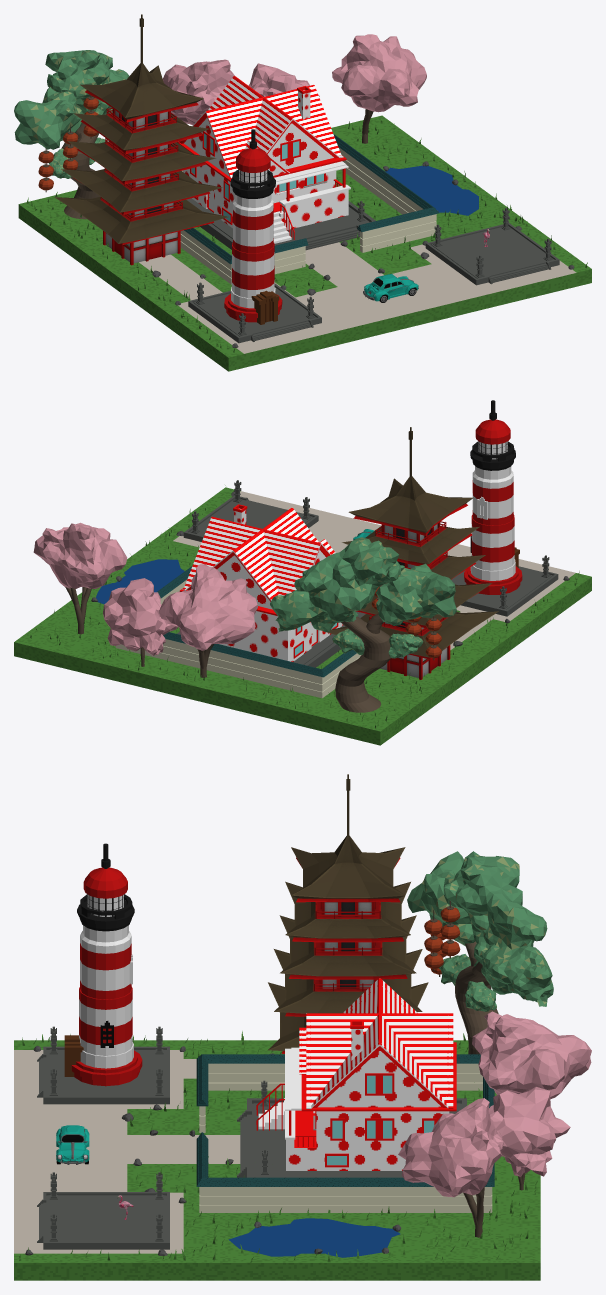
The picture shows the model from 3 angles, top to bottom: view 1: azimuth 30°, elevation 25°; view 2: azimuth 150°, elevation 25°; view 3: azimuth 270°, elevation 25°; orthographic projection. The views are drawn at different scales.
Parts seen in each view (by area): view 1: Cube.005, Cube.196, OBJRANDOM_LIGHTHOUSE, VEHICLES_VOLKSWAGEN; view 2: Cube.005, Cube.196, OBJRANDOM_LIGHTHOUSE; view 3: Cube.005, Cube.196, OBJRANDOM_LIGHTHOUSE, VEHICLES_VOLKSWAGEN.
Boxes of the visible parts, <box> form: Cube.005: <box>14,14,591,371</box>; Cube.196: <box>177,76,350,243</box>; OBJRANDOM_LIGHTHOUSE: <box>224,129,282,324</box>; VEHICLES_VOLKSWAGEN: <box>363,274,418,302</box>; Cube.005: <box>14,427,591,745</box>; Cube.196: <box>179,504,342,661</box>; OBJRANDOM_LIGHTHOUSE: <box>464,400,522,594</box>; Cube.005: <box>14,774,591,1280</box>; Cube.196: <box>256,978,456,1170</box>; OBJRANDOM_LIGHTHOUSE: <box>64,843,142,1086</box>; VEHICLES_VOLKSWAGEN: <box>56,1125,89,1164</box>.
Size of the model in its own units: 4528 by 2693 by 4389.
40 materials, 6 textured.
